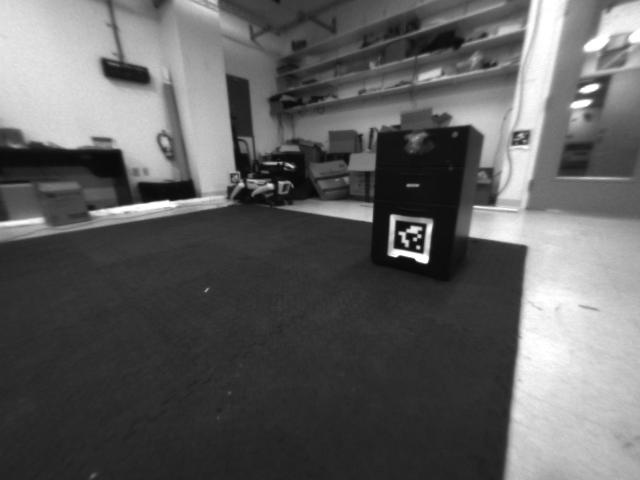drawer: (395, 127, 435, 161)
